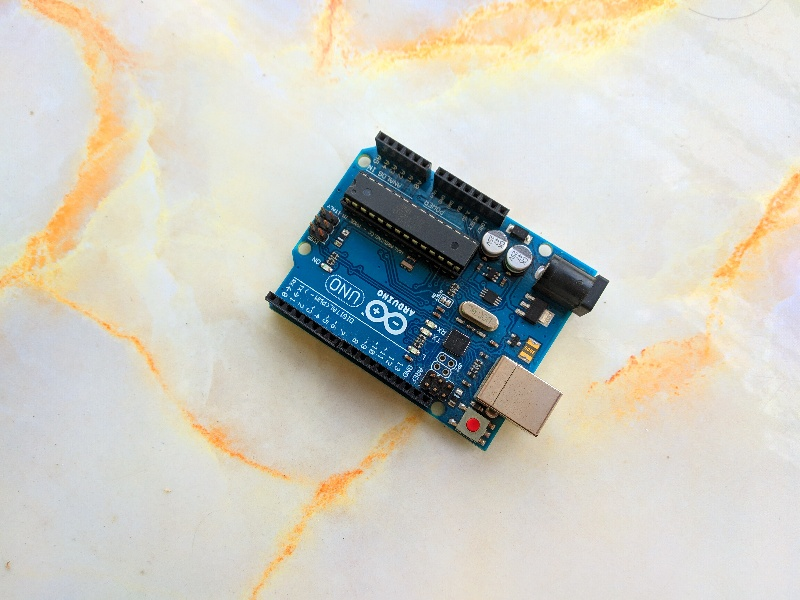Arduino UNO: (253, 121, 617, 464)
